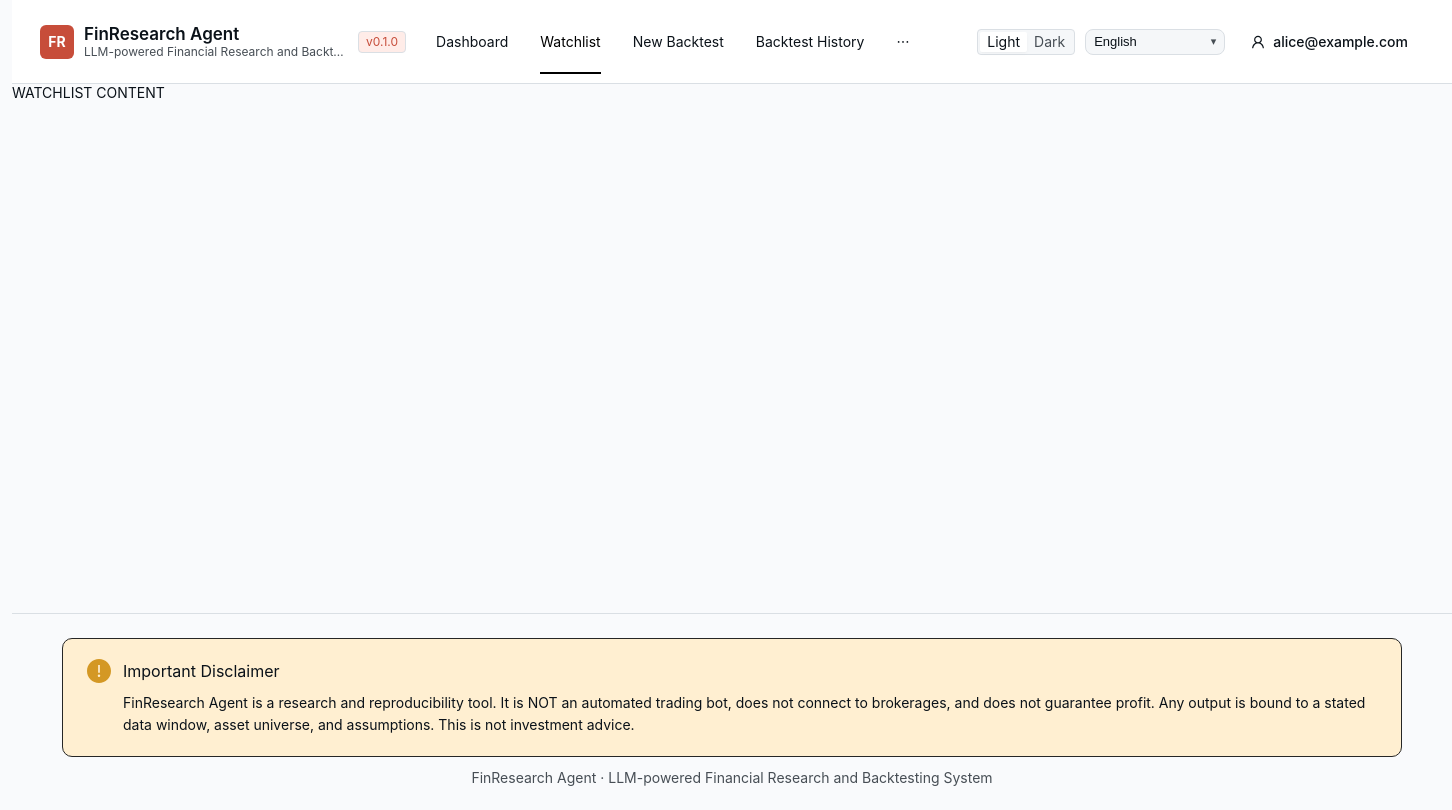
App — Header user area › shows the email + sign-out menu when authenticated
expect the text "alice@example.com" is shown: met, box [1273,33,1408,50]
What coordinates should you click on to do the following:
click the button "alice@example.com"
I would click on:
 (1330, 42)
Its box is [1235,26,1424,58].
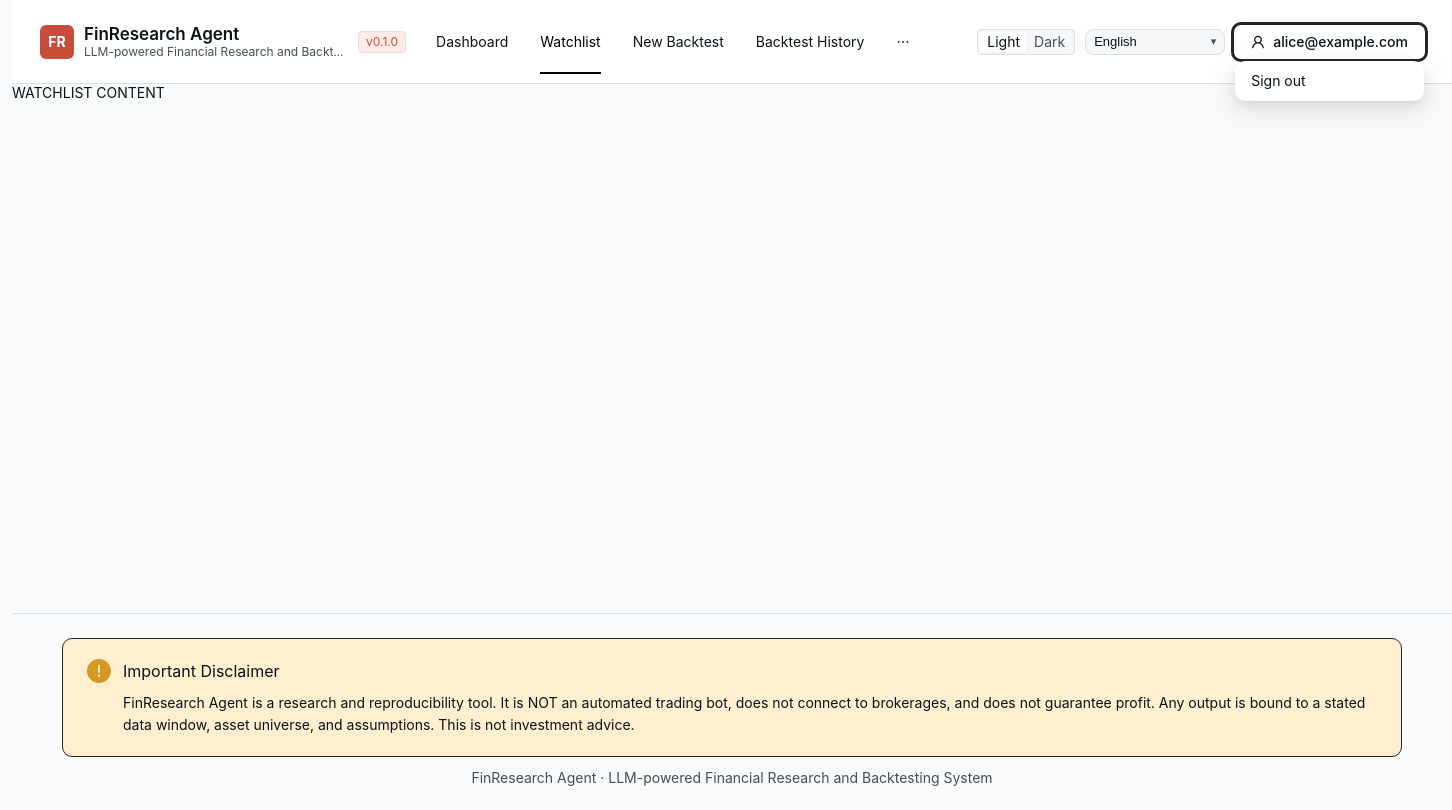
expect the text "Sign out" is shown: met, box [1251,72,1306,89]
